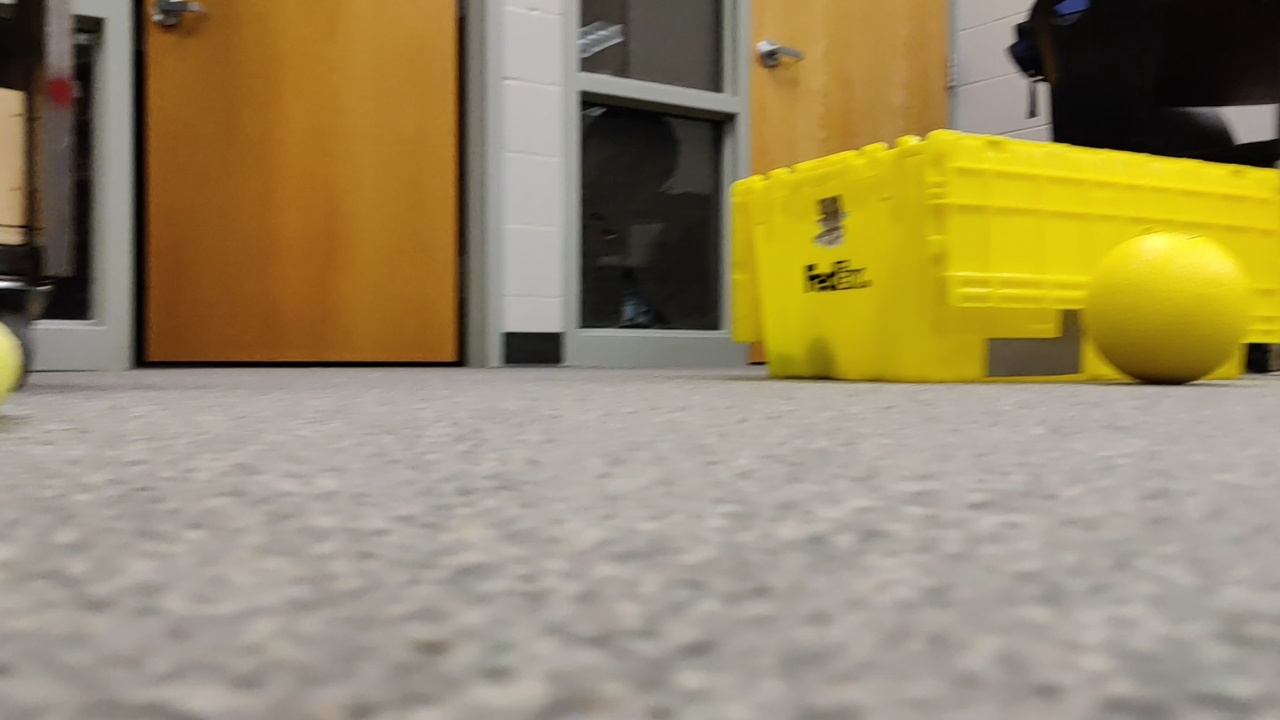Ball: (1082, 224, 1247, 398)
